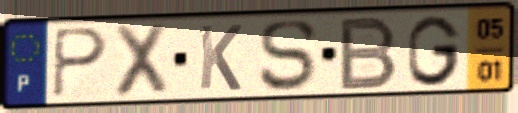B: (336, 13, 401, 93)
G: (405, 13, 464, 89)
K: (197, 22, 245, 93)
P: (51, 26, 111, 101)
S: (257, 17, 320, 94)
X: (111, 21, 171, 100)
